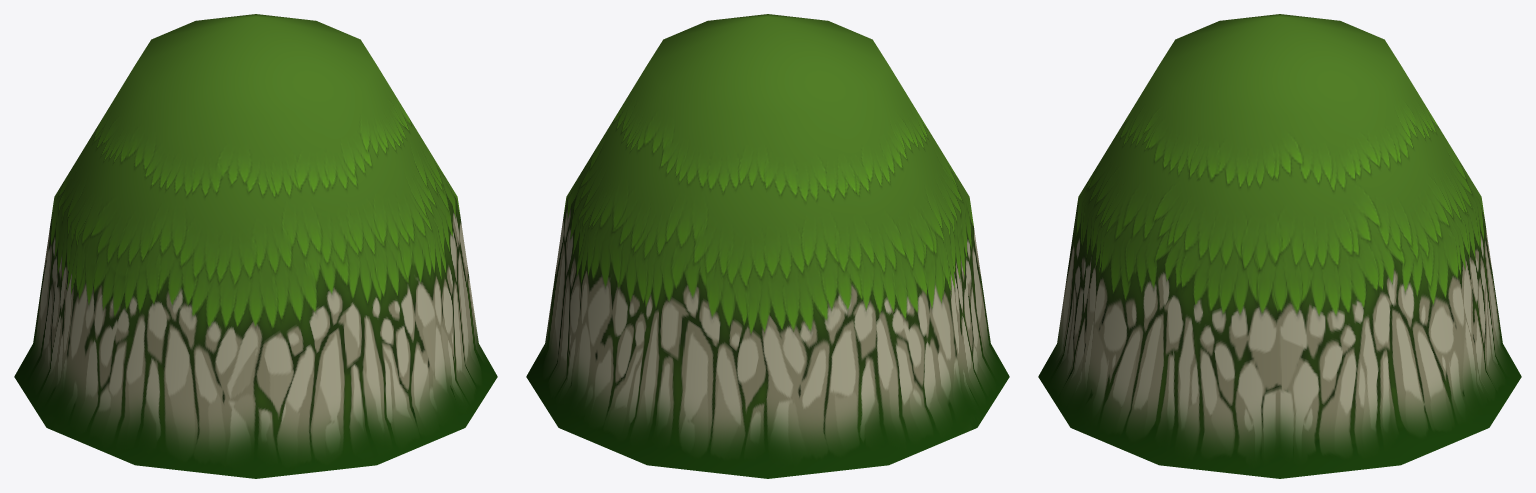
The model's file is Hill2.glb.
3 views of the same model, side by side, from view 1: azimuth 30°, elevation 25°; view 2: azimuth 150°, elevation 25°; view 3: azimuth 270°, elevation 25° (orthographic).
Visible parts, largest first — view 1: Hill_02; view 2: Hill_02; view 3: Hill_02.
Boxes of the visible parts, left/top/right/bottom form: Hill_02: left=14, top=14, right=497, bottom=478; Hill_02: left=526, top=14, right=1009, bottom=478; Hill_02: left=1038, top=14, right=1521, bottom=478.
Size of the model in its own units: 178 by 146 by 178.
1 material, 1 textured.
